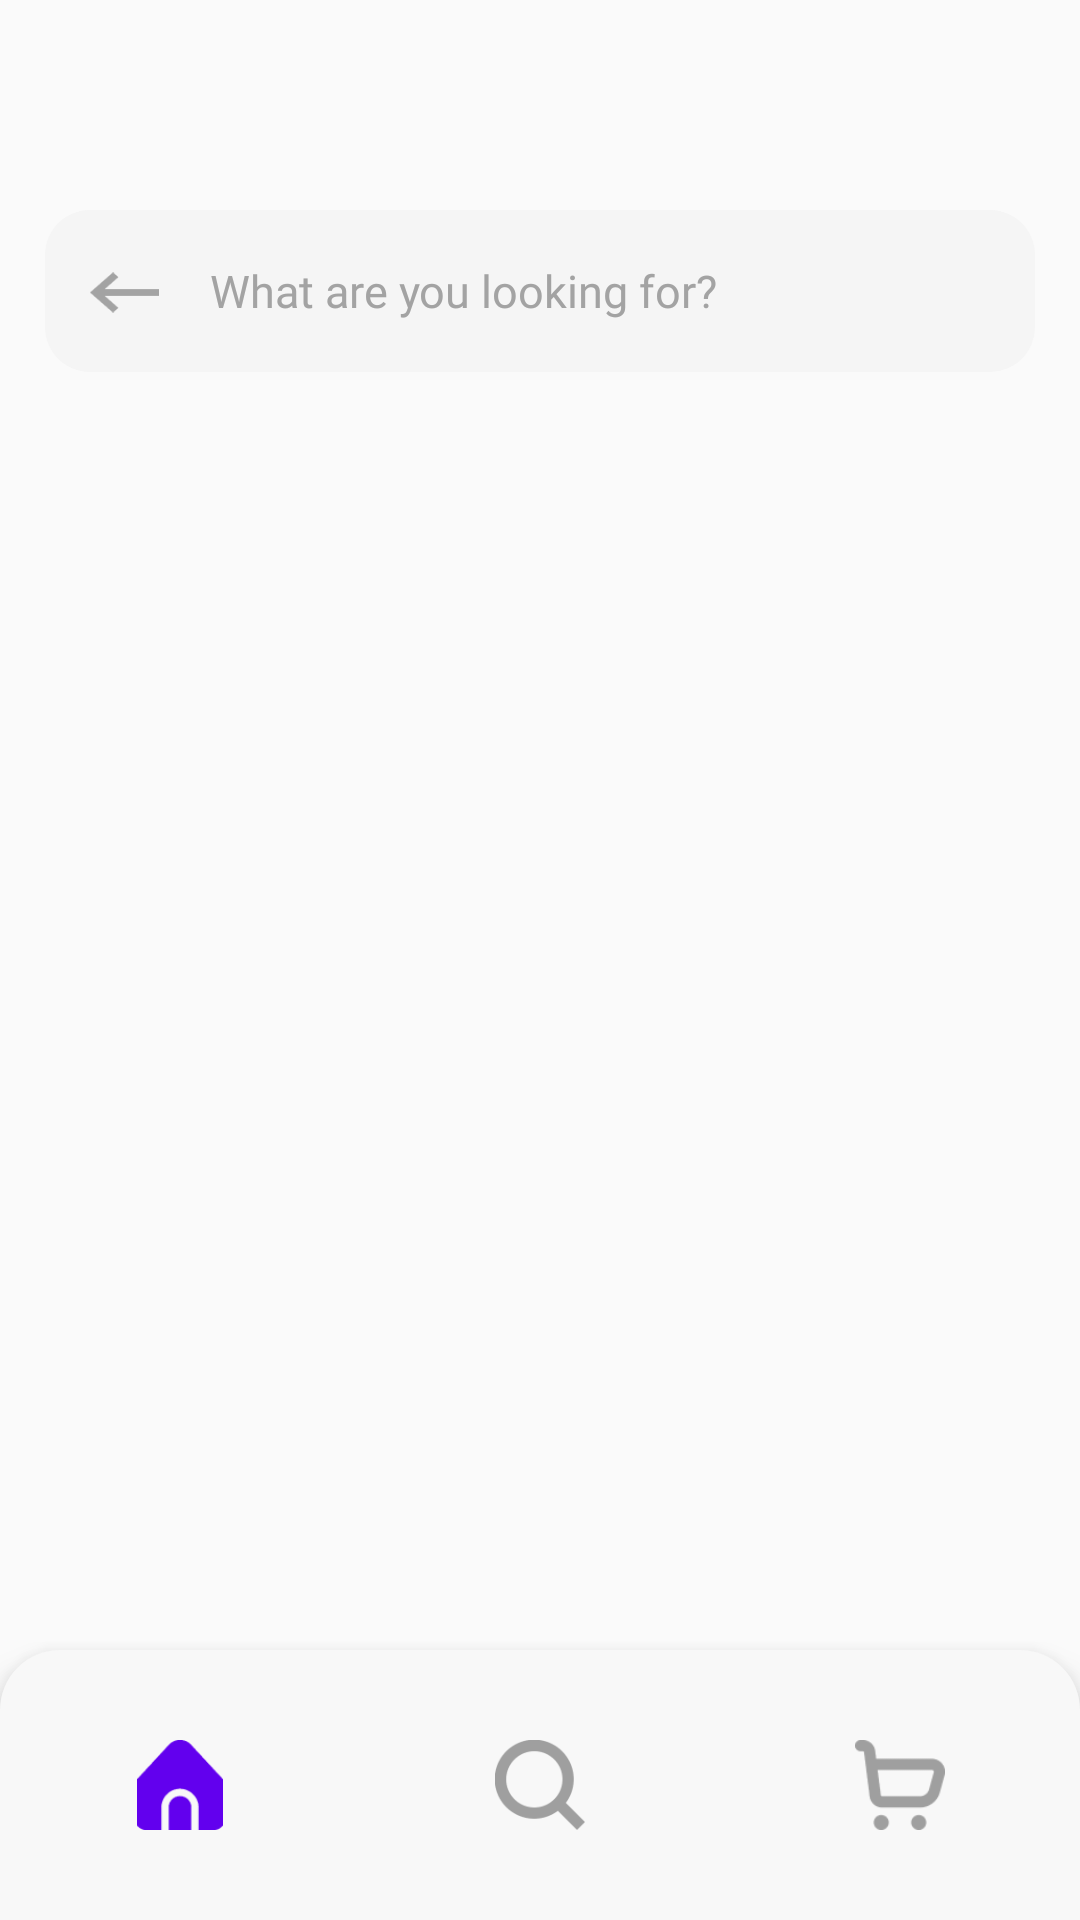

Icon bounding boxes for this 1080x1920 phone screenshot, format bbox=(x1, y1, x2, y2):
arrow: bbox=(90, 272, 159, 313)
